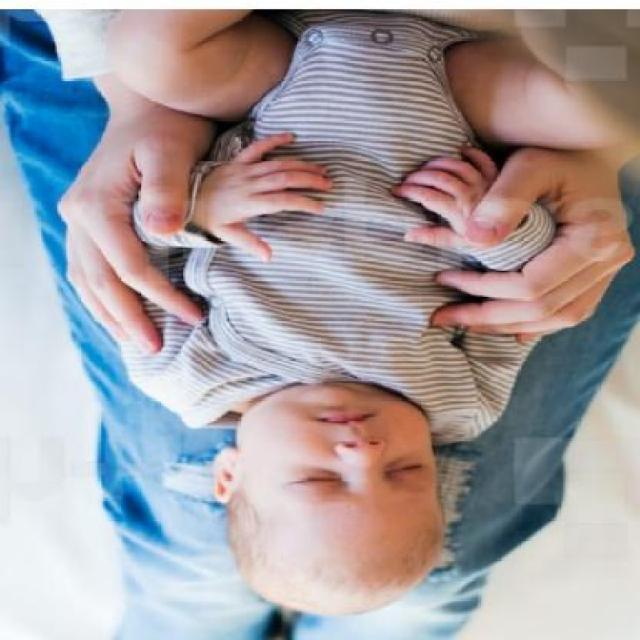baby: (104, 0, 556, 618)
